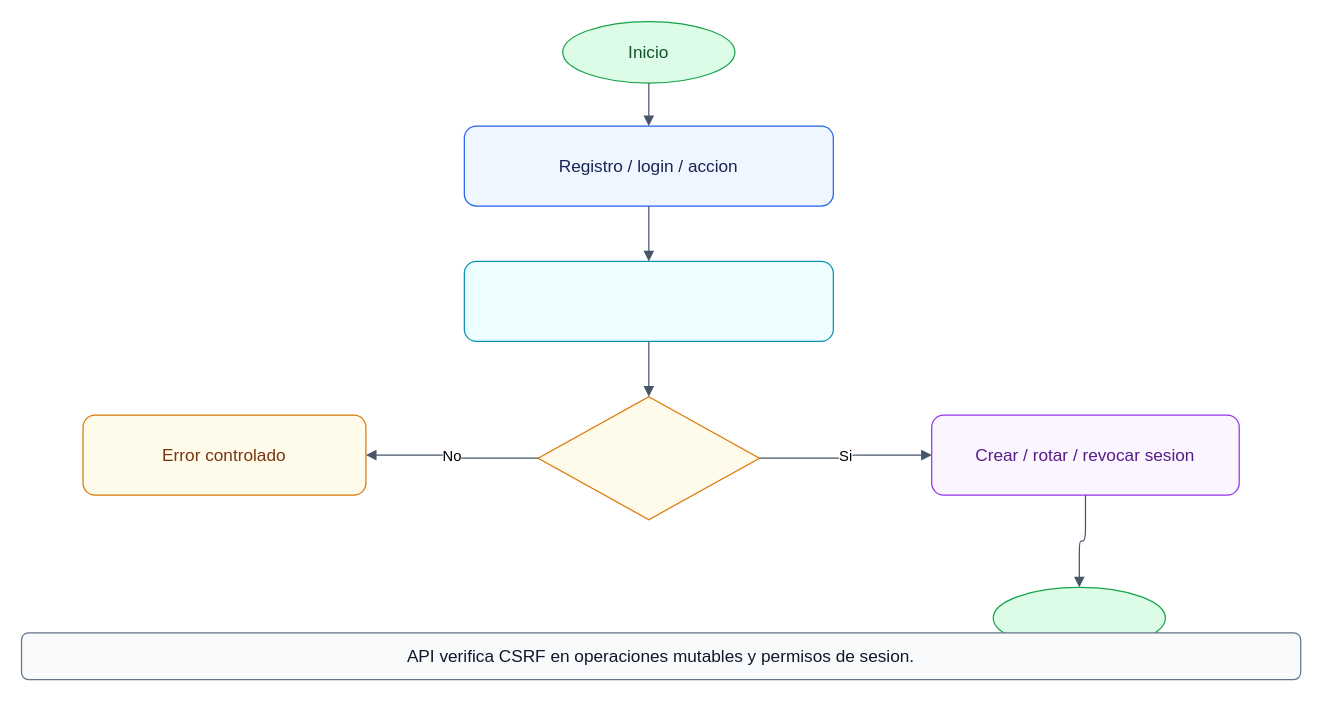
Some shapes in this 1322 by 701 pixel diagram are drawn without their labels. The box of each missing label's shape, as (x1, y1, x2, y2) in pixels:
Datos y CSRF validos?: (537, 395, 760, 520)
Fin: (992, 586, 1165, 649)
Obtener/enviar token CSRF: (463, 260, 833, 341)
